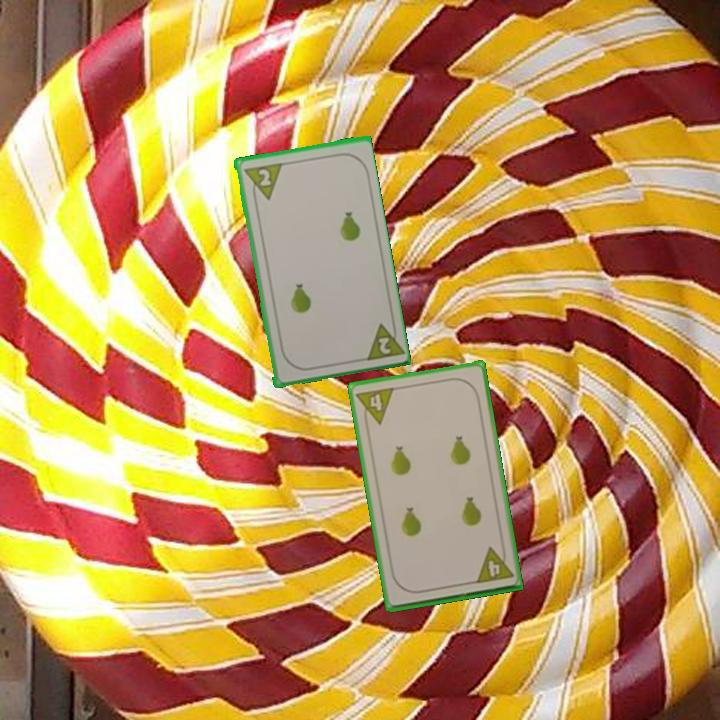2p: (360, 316, 404, 364), (240, 159, 284, 204)
4p: (353, 383, 397, 429), (472, 542, 516, 586)
